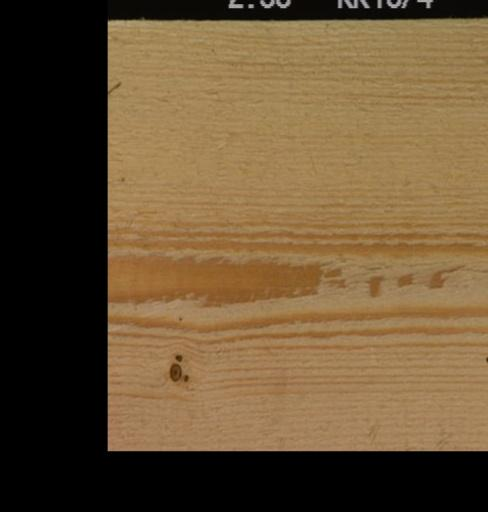dry_knot: (167, 348, 189, 386)
